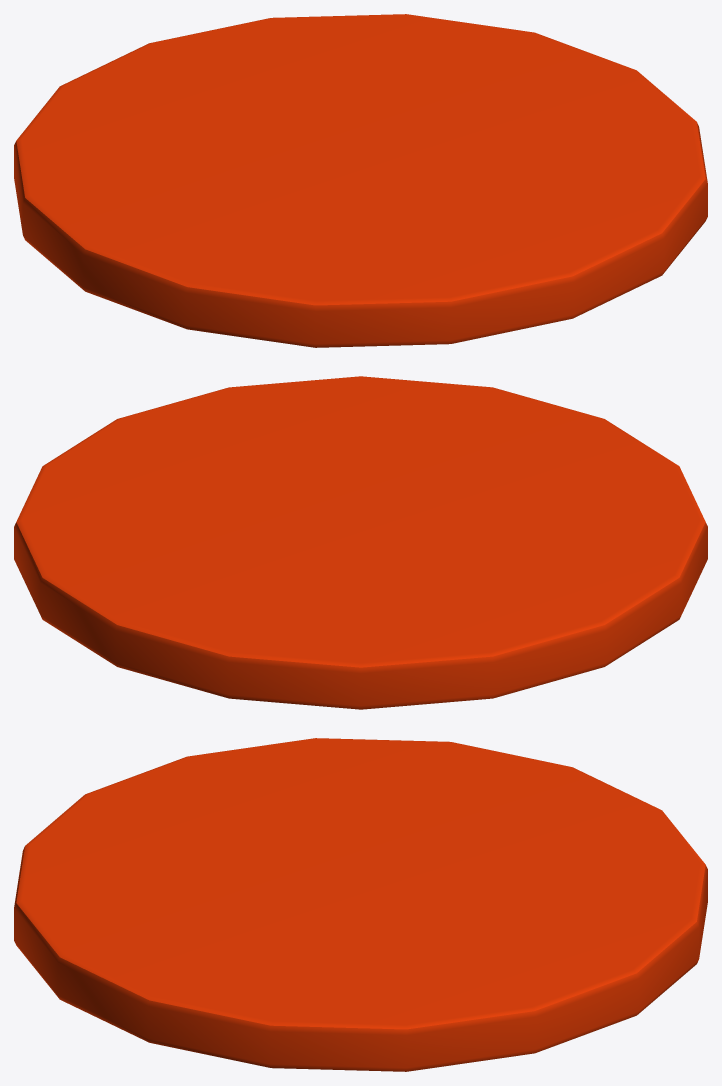
Rendered from burger_tomato.fbx.
3 renders of one model, top to bottom at view 1: azimuth 30°, elevation 25°; view 2: azimuth 150°, elevation 25°; view 3: azimuth 270°, elevation 25°, orthographic.
Visible parts, largest first — view 1: tomato1; view 2: tomato1; view 3: tomato1.
Boxes of the visible parts, left/top/right/bottom form: tomato1: left=14, top=14, right=707, bottom=347; tomato1: left=14, top=376, right=707, bottom=709; tomato1: left=14, top=738, right=707, bottom=1071.
Size of the model in its own units: 226 by 16.68 by 226.
